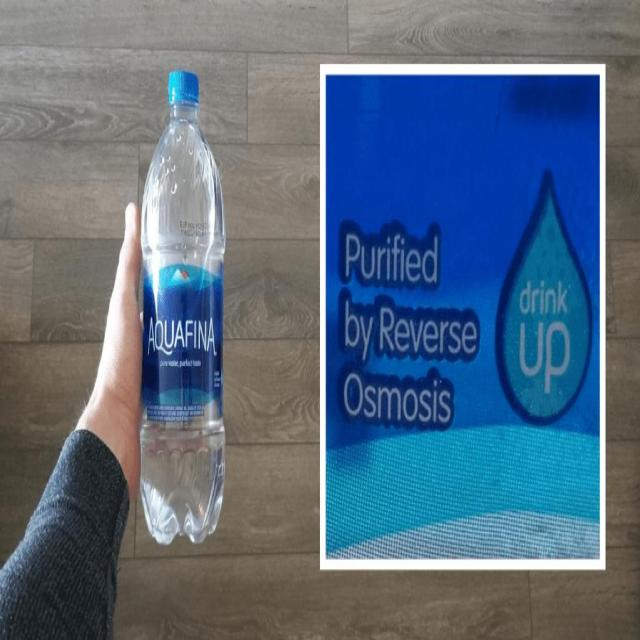bottle: (140, 61, 226, 548)
